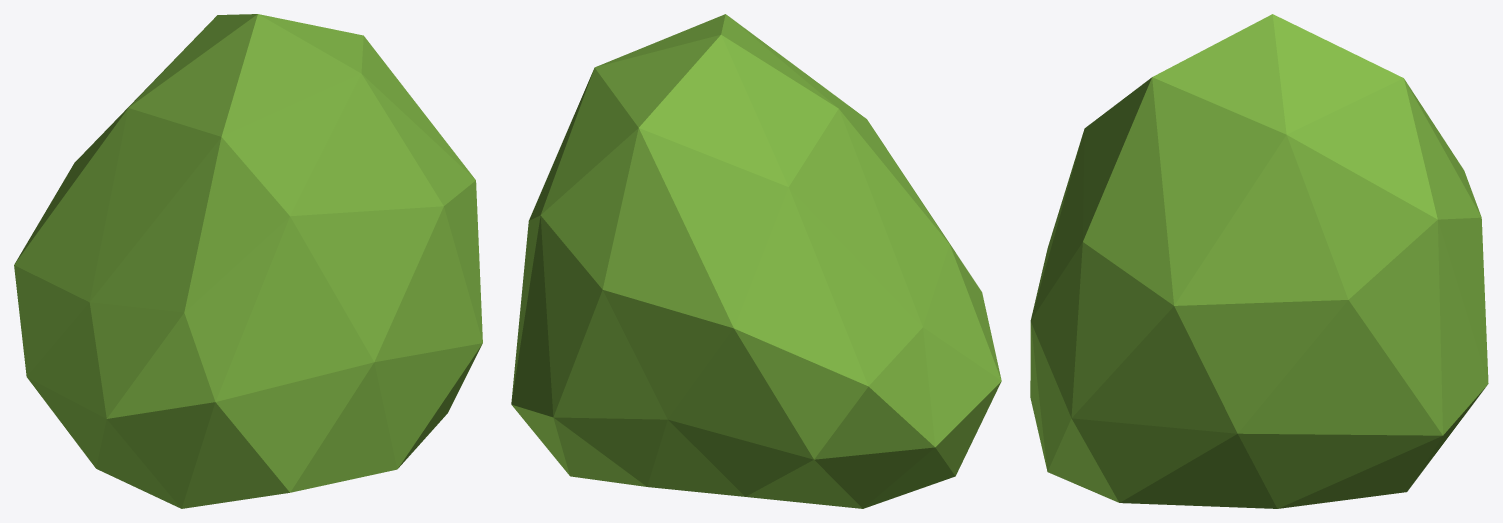
The model's file is Bush_02.fbx.
3 renders of one model, left to right at view 1: azimuth 30°, elevation 25°; view 2: azimuth 150°, elevation 25°; view 3: azimuth 270°, elevation 25°, orthographic. The views are drawn at different scales.
Visible parts, largest first — view 1: Bush1; view 2: Bush1; view 3: Bush1.
Part boxes in pixels (left/top/right/bottom): Bush1: left=14, top=14, right=482, bottom=508; Bush1: left=511, top=14, right=1001, bottom=508; Bush1: left=1030, top=14, right=1488, bottom=508.
Bounding box in the file's own units: 697 × 699 × 635.
